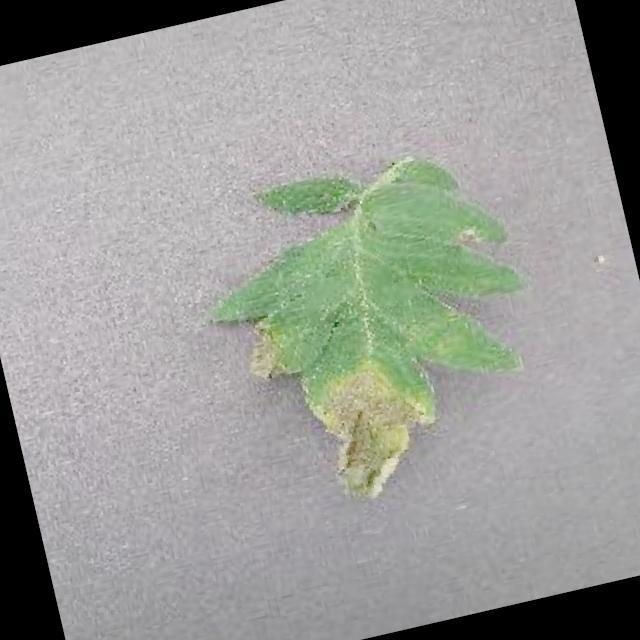Tomato late blight leaf: (184, 133, 565, 524)
